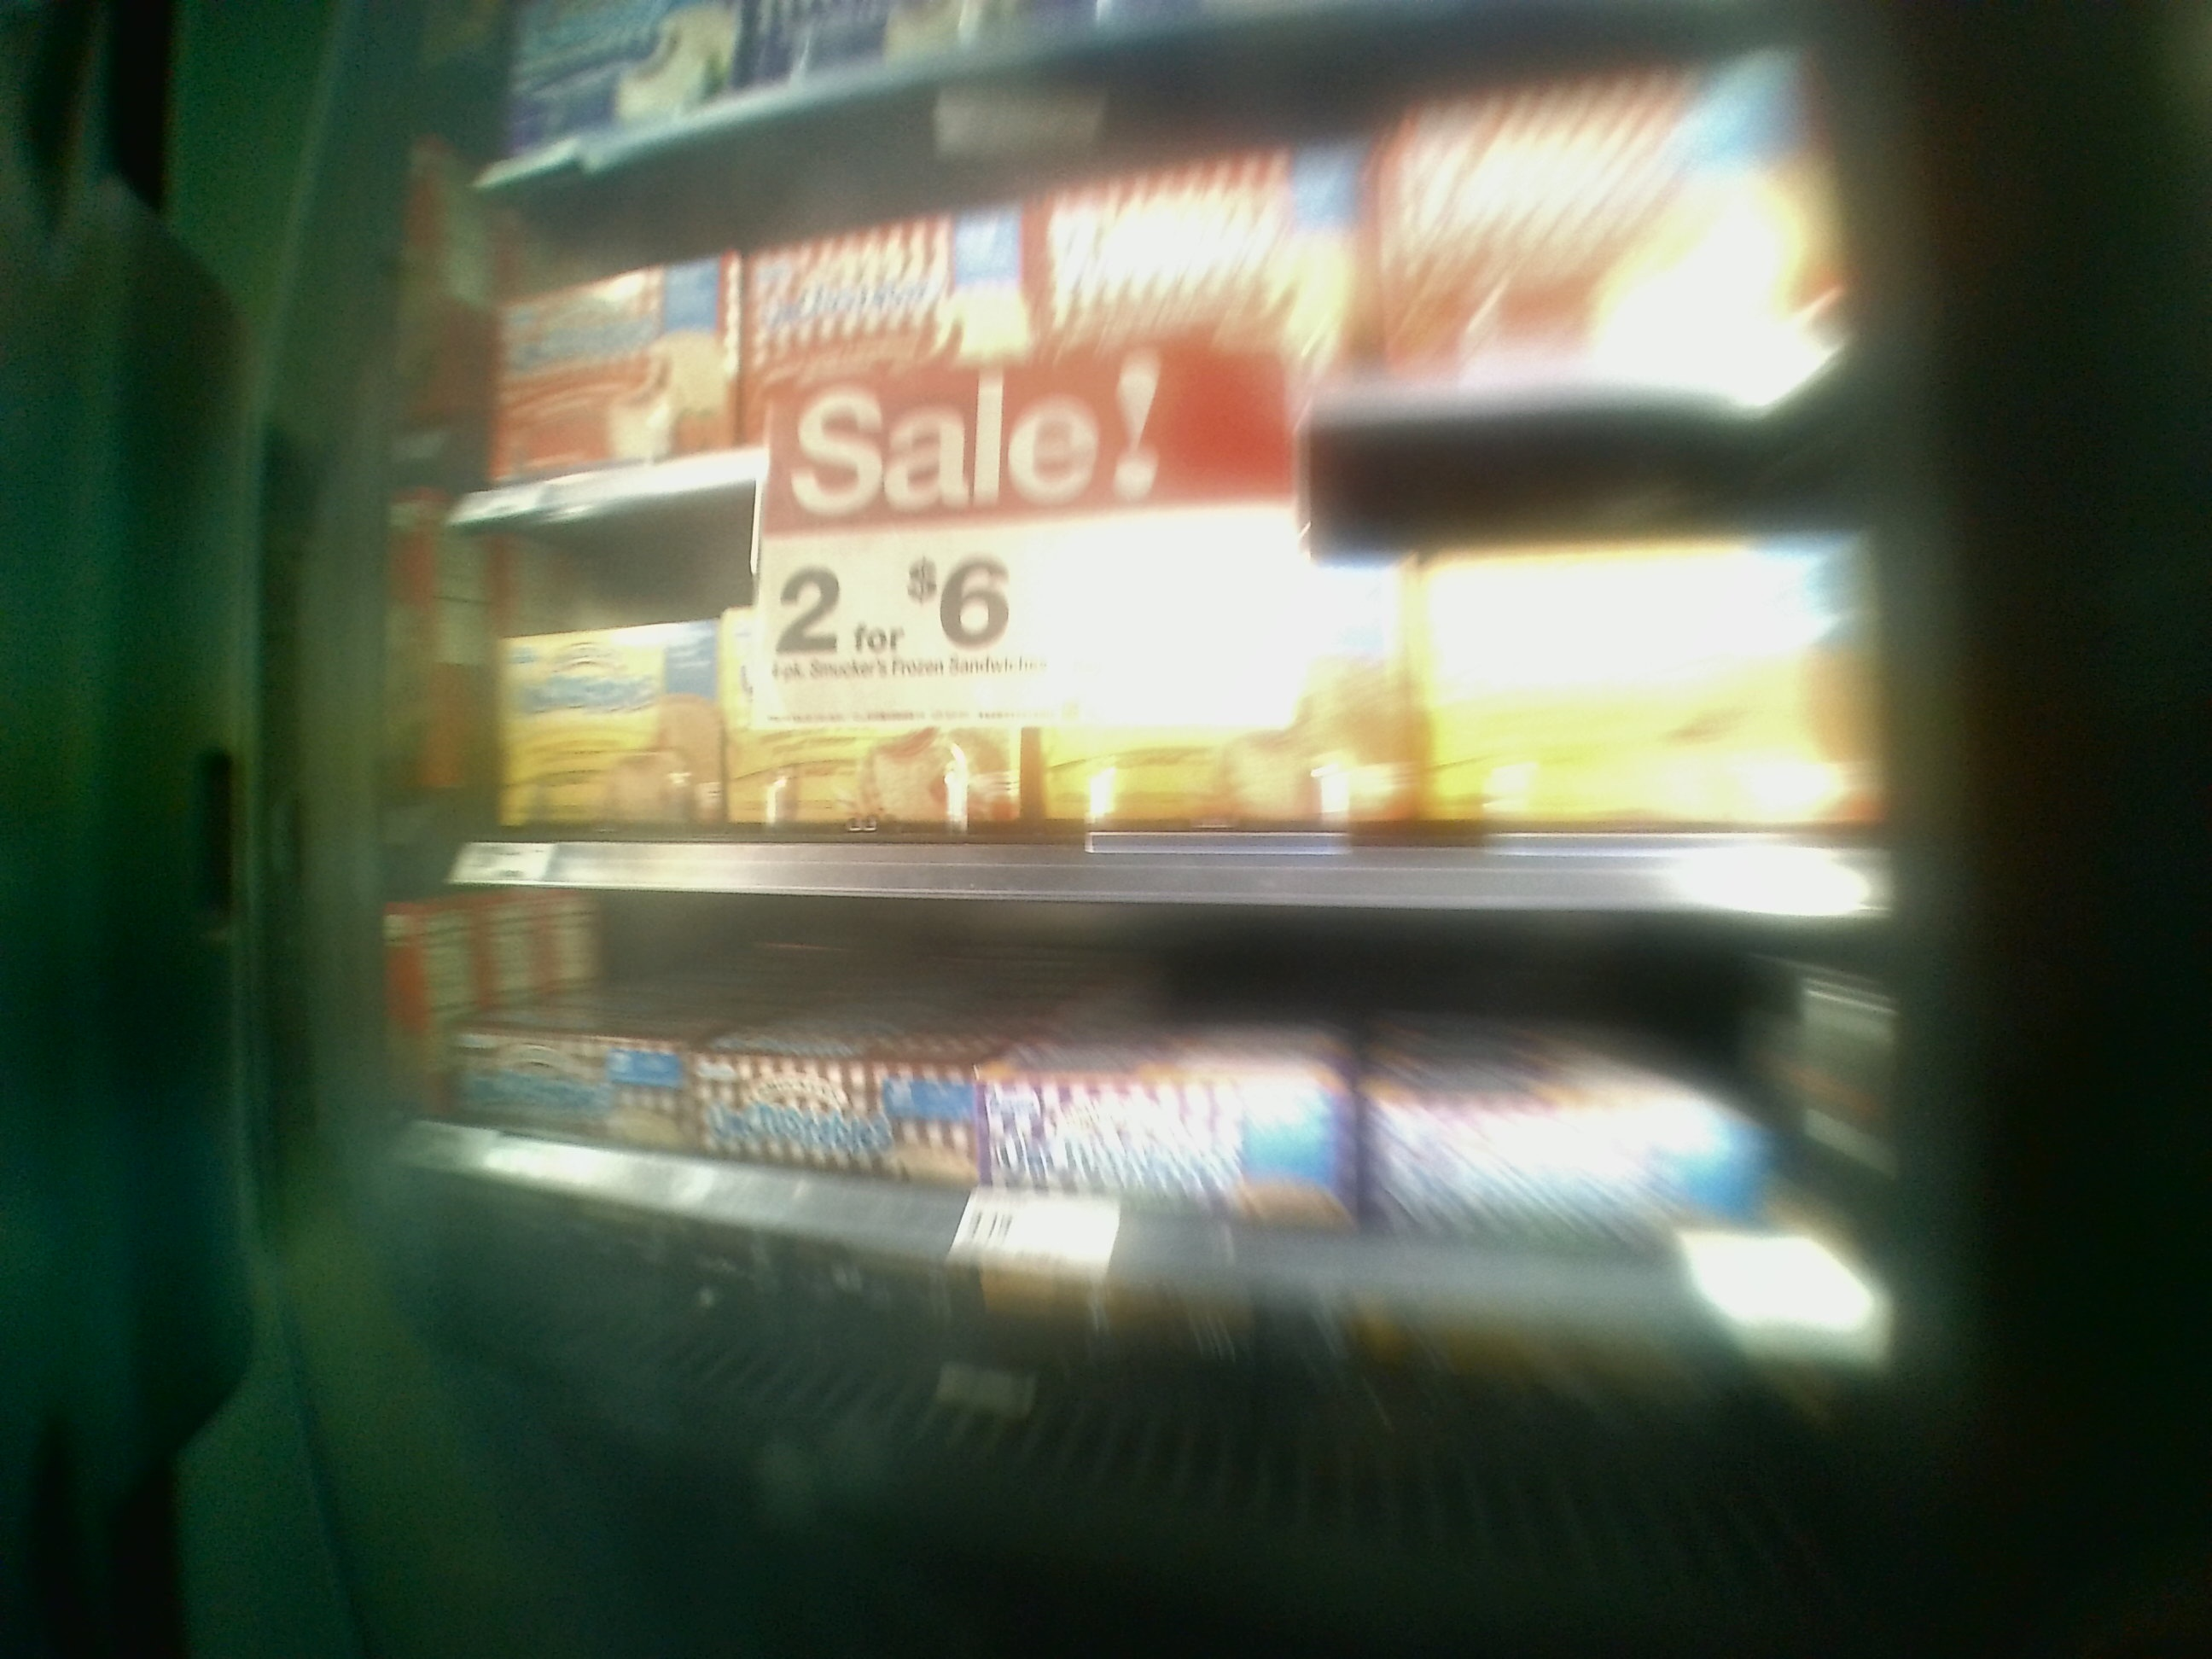shelf: (449, 887, 1892, 1345)
